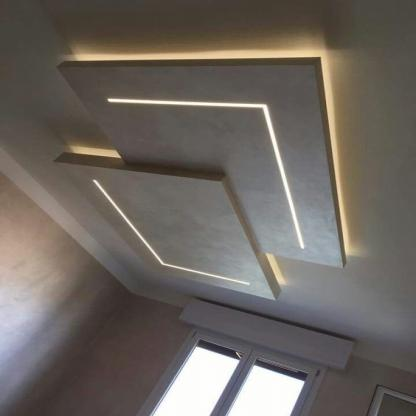Gypsum Board: (5, 0, 416, 307)
